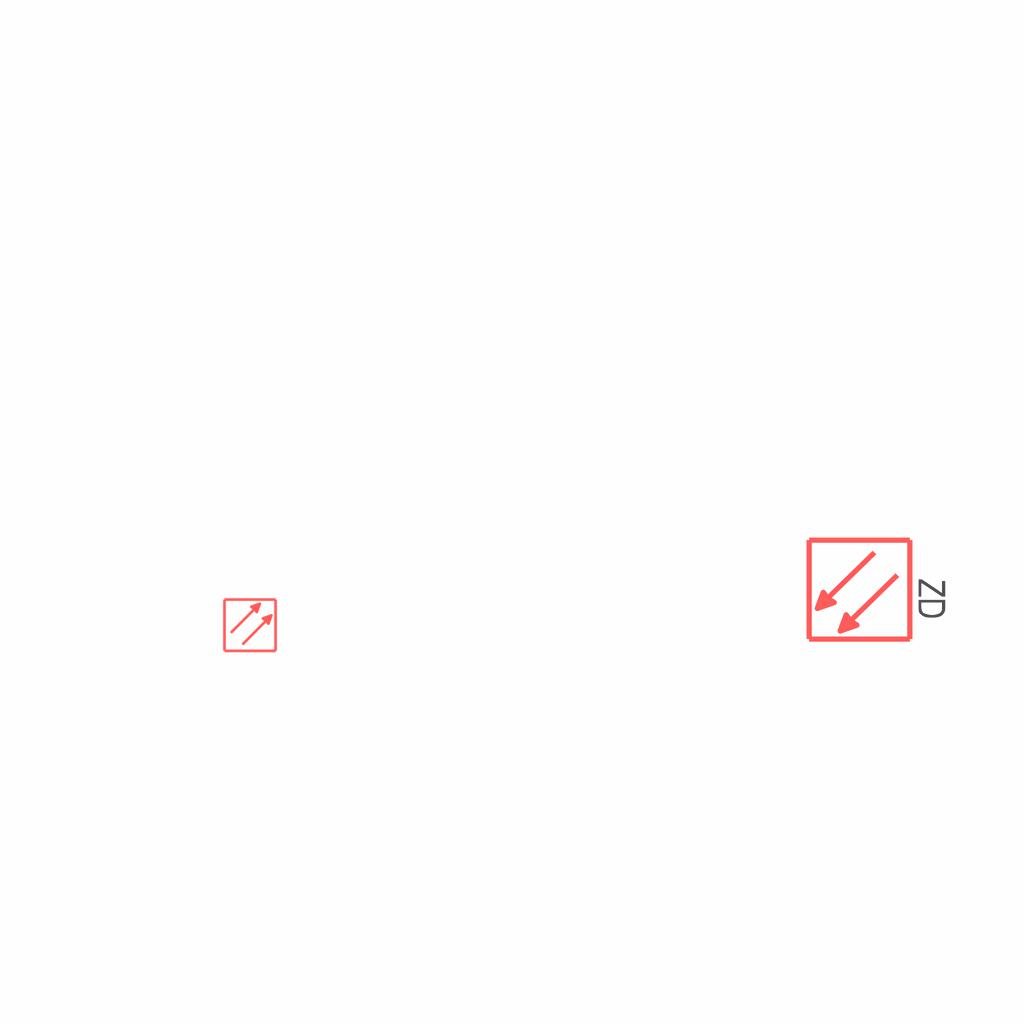RMO_Rauchmelder_optischer: (222, 597, 278, 653)
ZD_Melder_in_Zwischendecke_mit_Revisionsoeffnung_mind_40_x_40_cm: (804, 531, 953, 645)
